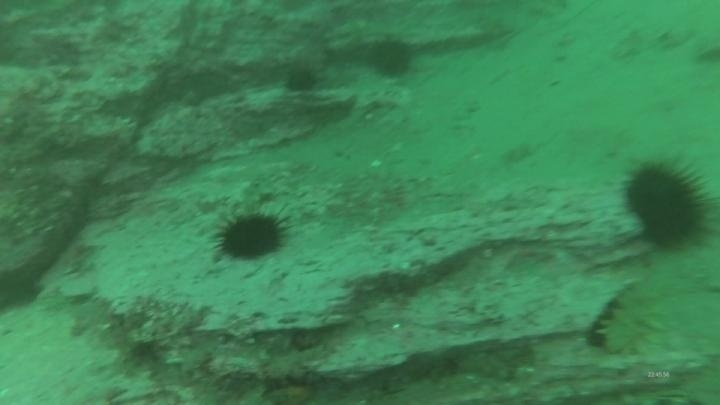echinus: (620, 155, 714, 253), (212, 206, 291, 265), (367, 37, 416, 81), (282, 63, 321, 96)
holothurian: (595, 278, 666, 359)
